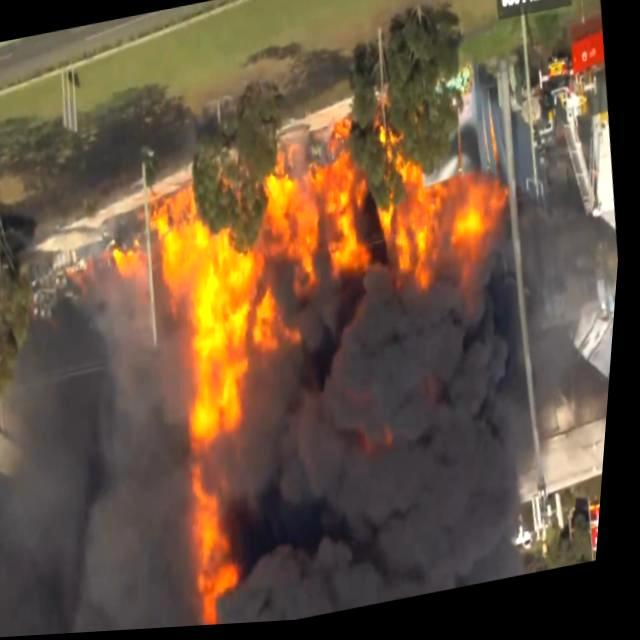fire: (116, 98, 528, 370), (156, 336, 320, 632)
